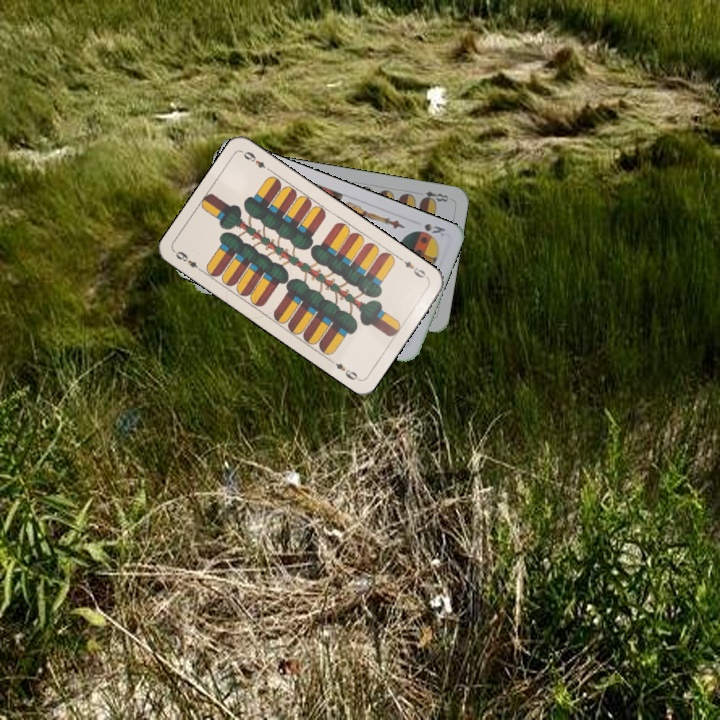E8: (417, 187, 451, 206)
E9: (395, 254, 431, 282), (172, 247, 206, 275)
SK: (420, 219, 448, 239)
